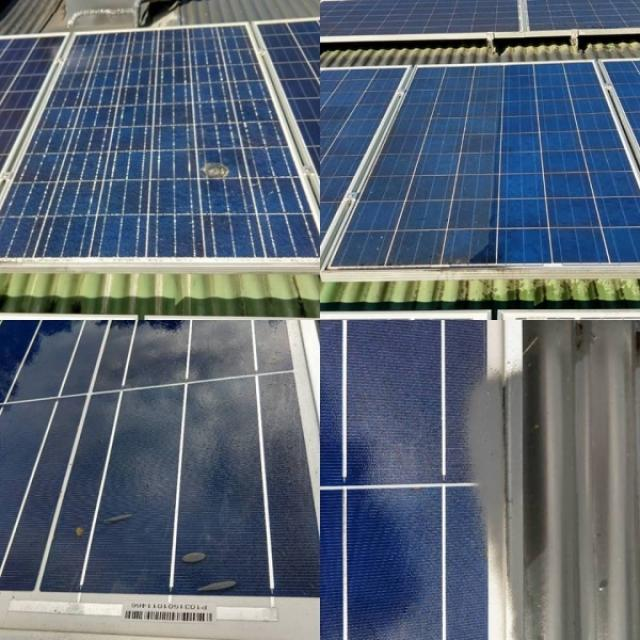dust-solar-panel: (0, 15, 321, 269), (315, 64, 507, 271)
